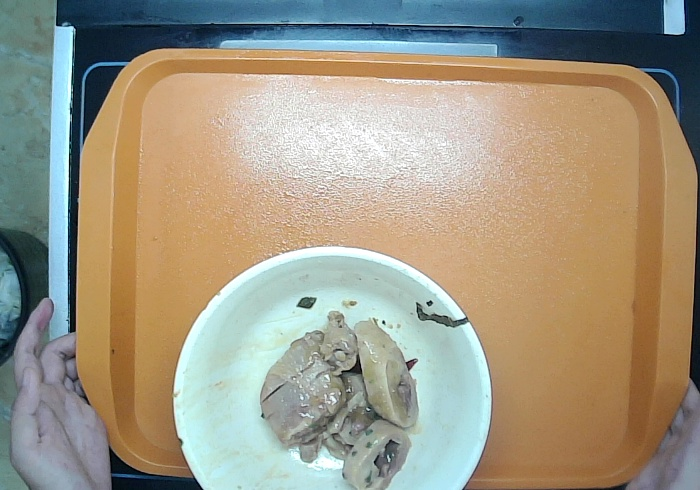ZNLD-Da_Tang_Wan: (170, 244, 491, 490)
